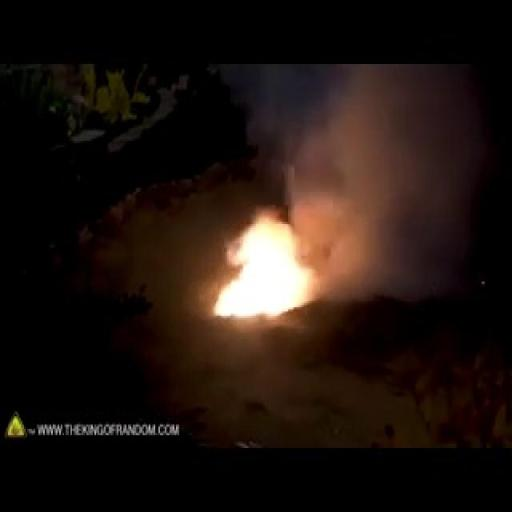smoke: (202, 178, 324, 321)
